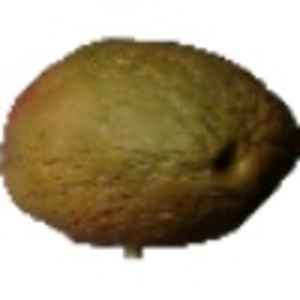mamão: (3, 26, 292, 250)
